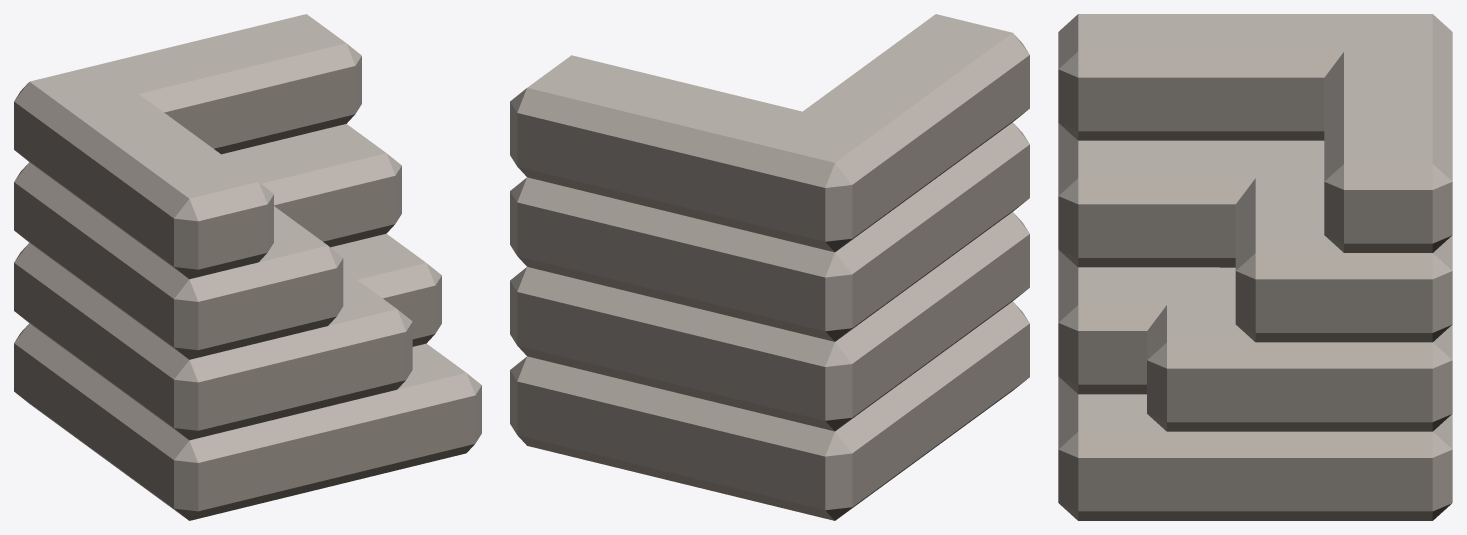
Rendered from m_kub_stone_stairs_piled_cornerIn.FBX.
3 renders of one model, left to right at view 1: azimuth 30°, elevation 25°; view 2: azimuth 150°, elevation 25°; view 3: azimuth 270°, elevation 25°, orthographic. The views are drawn at different scales.
Parts seen in each view (by area): view 1: m_kub_stone_stairs_piled_cornerIn; view 2: m_kub_stone_stairs_piled_cornerIn; view 3: m_kub_stone_stairs_piled_cornerIn.
Boxes of the visible parts, x1,y1,x2,y2 form: m_kub_stone_stairs_piled_cornerIn: (14,14,481,520); m_kub_stone_stairs_piled_cornerIn: (510,14,1029,520); m_kub_stone_stairs_piled_cornerIn: (1058,14,1452,520).
Bounding box in the file's own units: 2 × 2 × 2.
